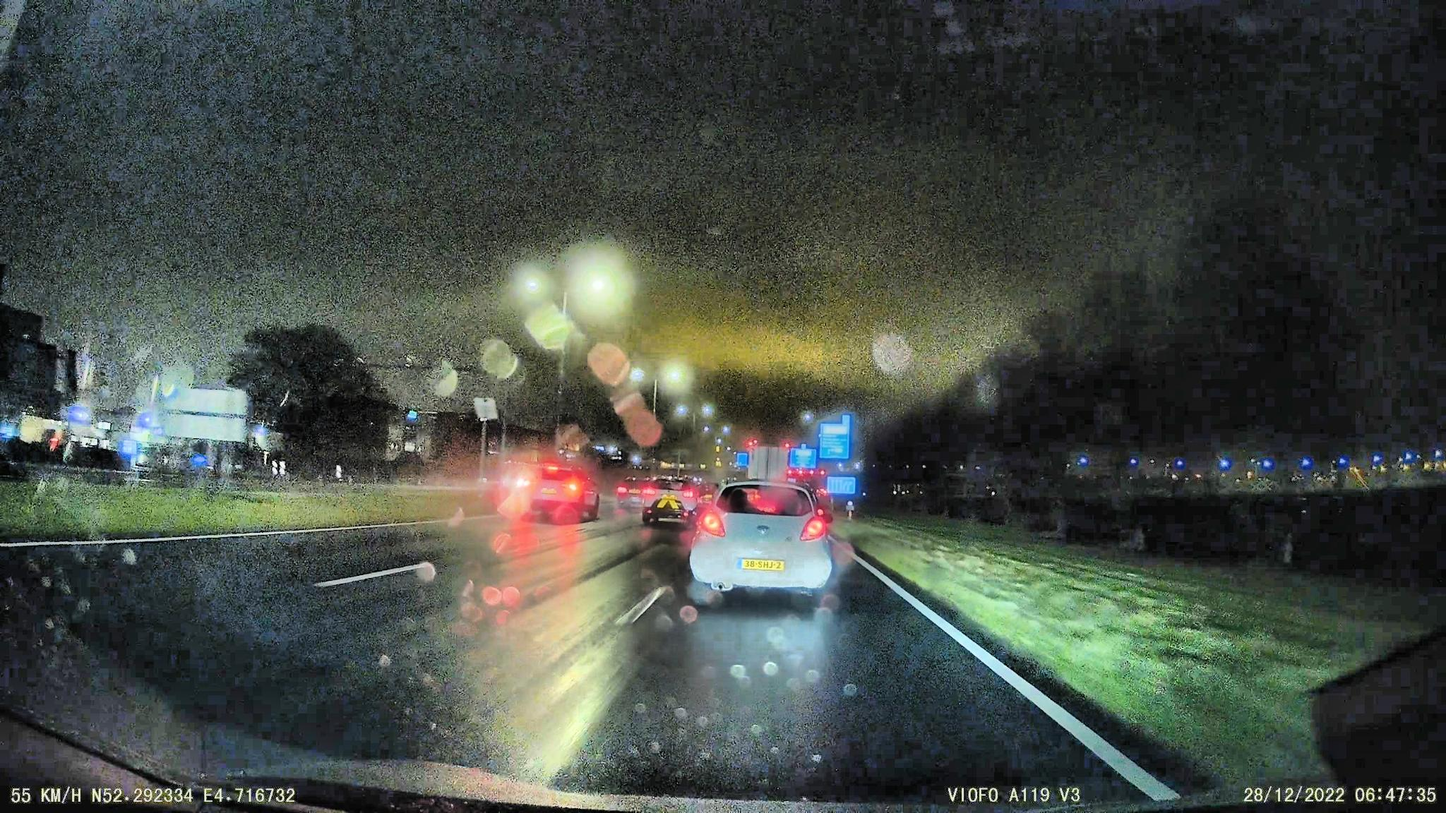Roads: (29, 519, 1143, 813)
